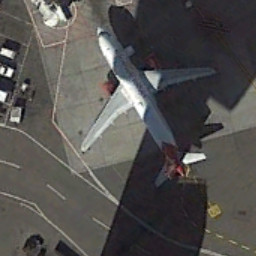Airplane: (68, 21, 224, 192)
